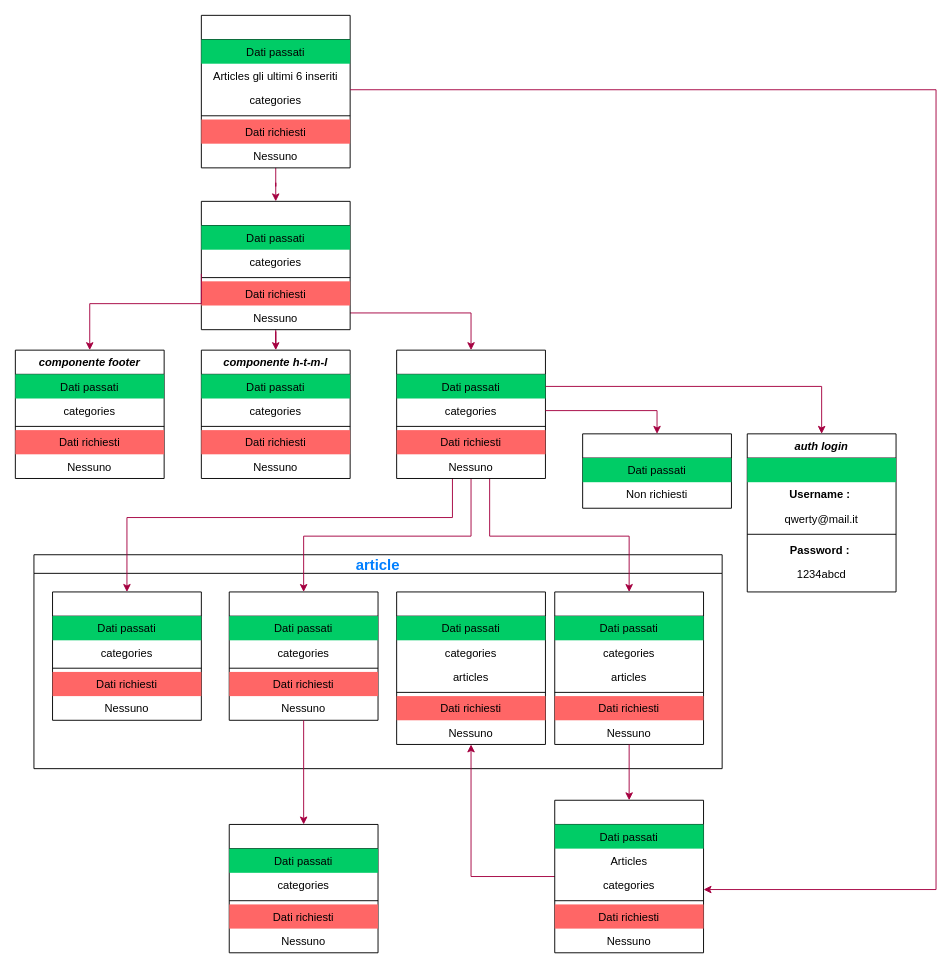
This 951x968 diagram has some shape labels left out. Here are the shapes that lost their labels. From the top down, the box of each, then its label:
(200, 14, 350, 168): vista Welcome
(200, 200, 350, 330): componente layout
(396, 349, 545, 478): componente navbar
(582, 433, 731, 508): auth register
(747, 458, 896, 482): Utenti finale
(52, 591, 201, 720): vista byCategory
(228, 591, 378, 720): vista create
(396, 591, 545, 744): vista show
(554, 591, 704, 744): vista index
(228, 824, 378, 953): livewire article
(554, 799, 704, 953): componente card
